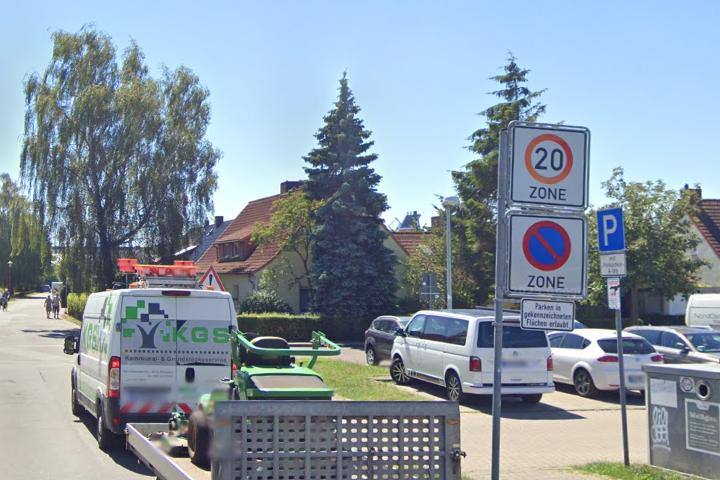traffic_sign: (520, 220, 572, 274), (524, 132, 574, 186), (595, 208, 624, 253), (193, 266, 227, 298)
vehicle: (56, 284, 247, 454), (386, 306, 558, 407), (512, 326, 665, 400)
